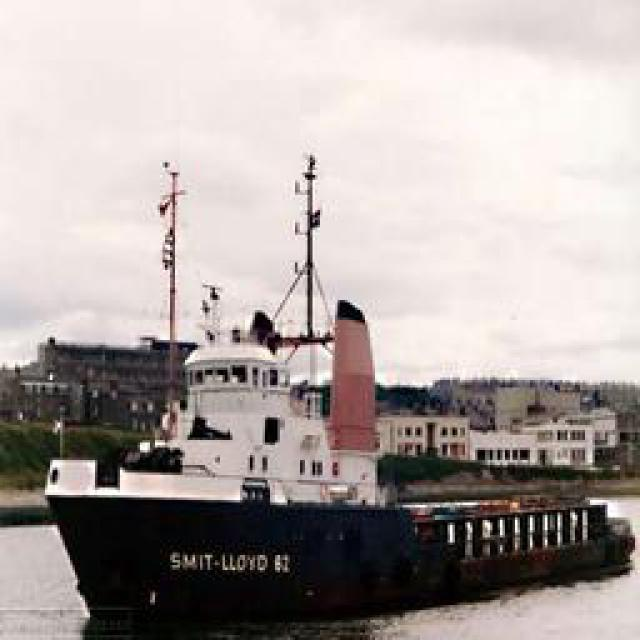Ship: (36, 134, 614, 617)
